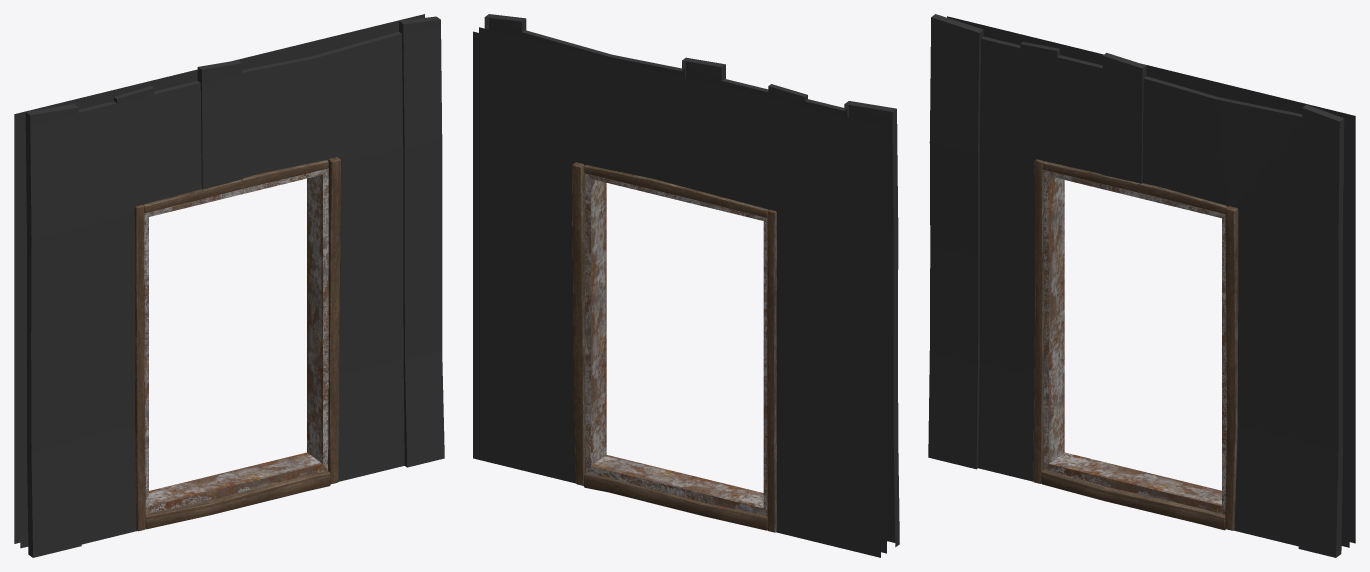
Rendered from SM_Wall_Side_Door.FBX.
The picture shows the model from 3 angles, left to right: view 1: azimuth 30°, elevation 25°; view 2: azimuth 150°, elevation 25°; view 3: azimuth 330°, elevation 25°; orthographic projection.
Parts seen in each view (by area): view 1: SM_Wall_Side_Door_LOD0; view 2: SM_Wall_Side_Door_LOD0; view 3: SM_Wall_Side_Door_LOD0.
Part boxes in pixels (<box>): SM_Wall_Side_Door_LOD0: <box>14,14,444,557</box>; SM_Wall_Side_Door_LOD0: <box>473,14,899,557</box>; SM_Wall_Side_Door_LOD0: <box>928,14,1355,557</box>.
Size of what is drawn, in the model's own units: 300 by 29.69 by 310.
